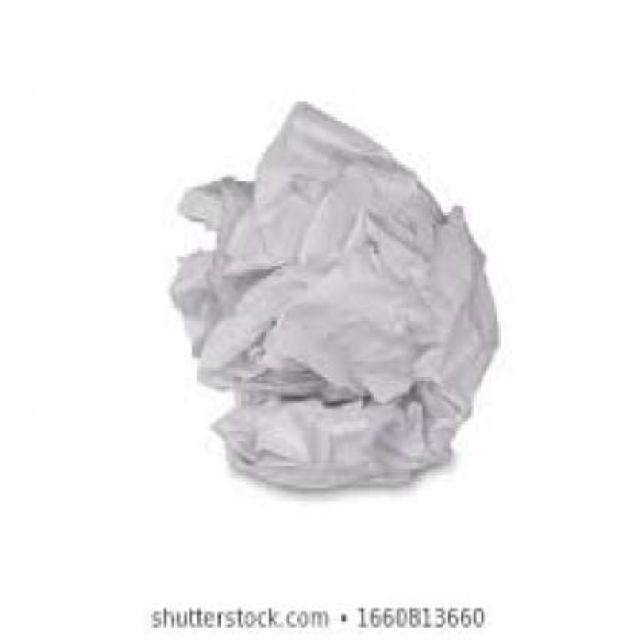paper: (166, 98, 499, 484)
